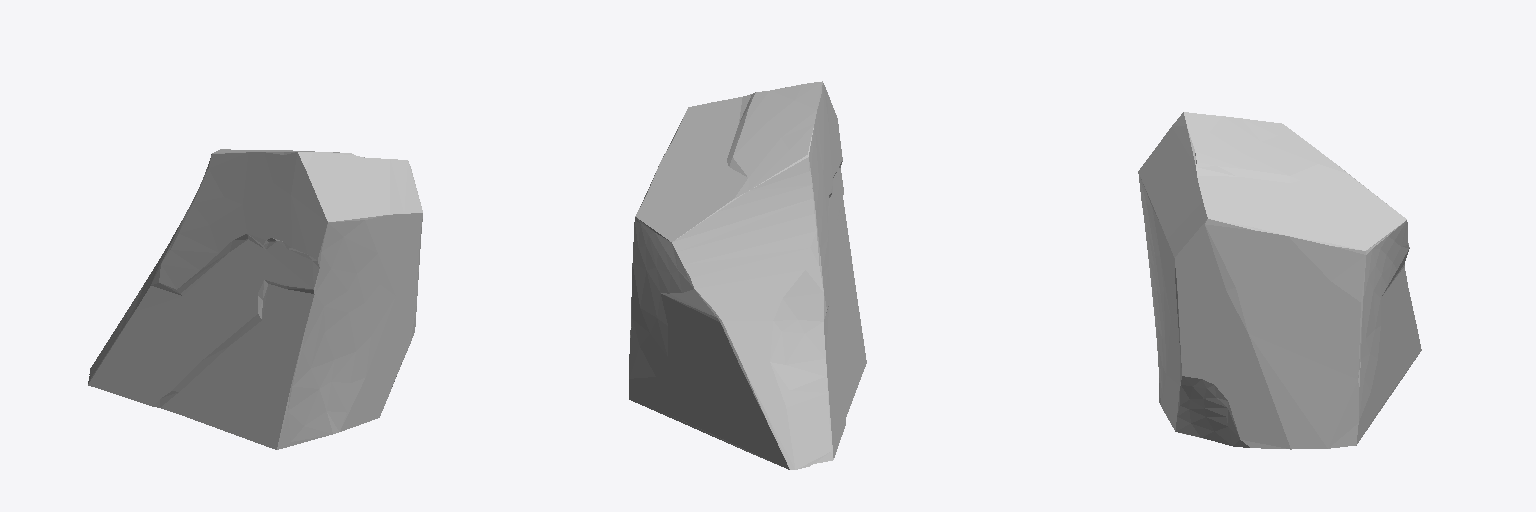
Rendered from sm_rock8.OBJ.
The picture shows the model from 3 angles: view 1: azimuth 30°, elevation 25°; view 2: azimuth 150°, elevation 25°; view 3: azimuth 270°, elevation 25°; orthographic projection.
Visible parts, largest first — view 1: ZBrushPolyMesh3D; view 2: ZBrushPolyMesh3D; view 3: ZBrushPolyMesh3D.
Boxes of the visible parts, box(x1,y1,x2,y2) form: ZBrushPolyMesh3D: box(88, 149, 422, 449); ZBrushPolyMesh3D: box(629, 81, 866, 469); ZBrushPolyMesh3D: box(1138, 112, 1421, 449).
Bounding box in the file's own units: 2.09 × 2.4 × 2.19.